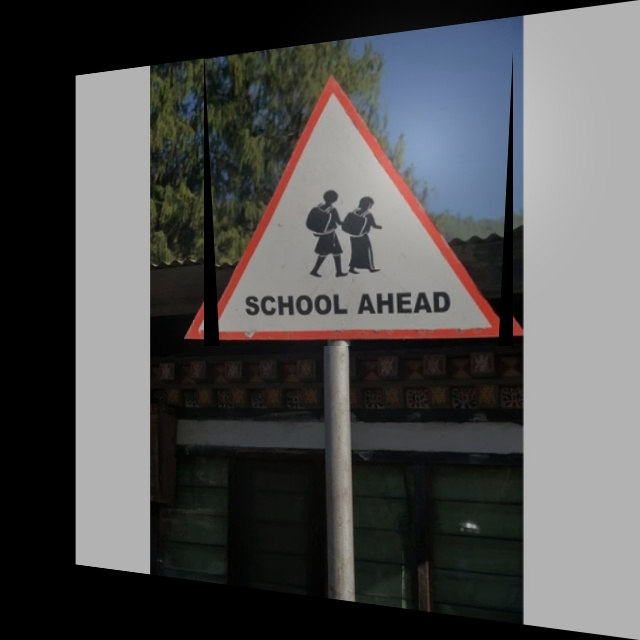School_Ahead: (204, 50, 513, 346)
